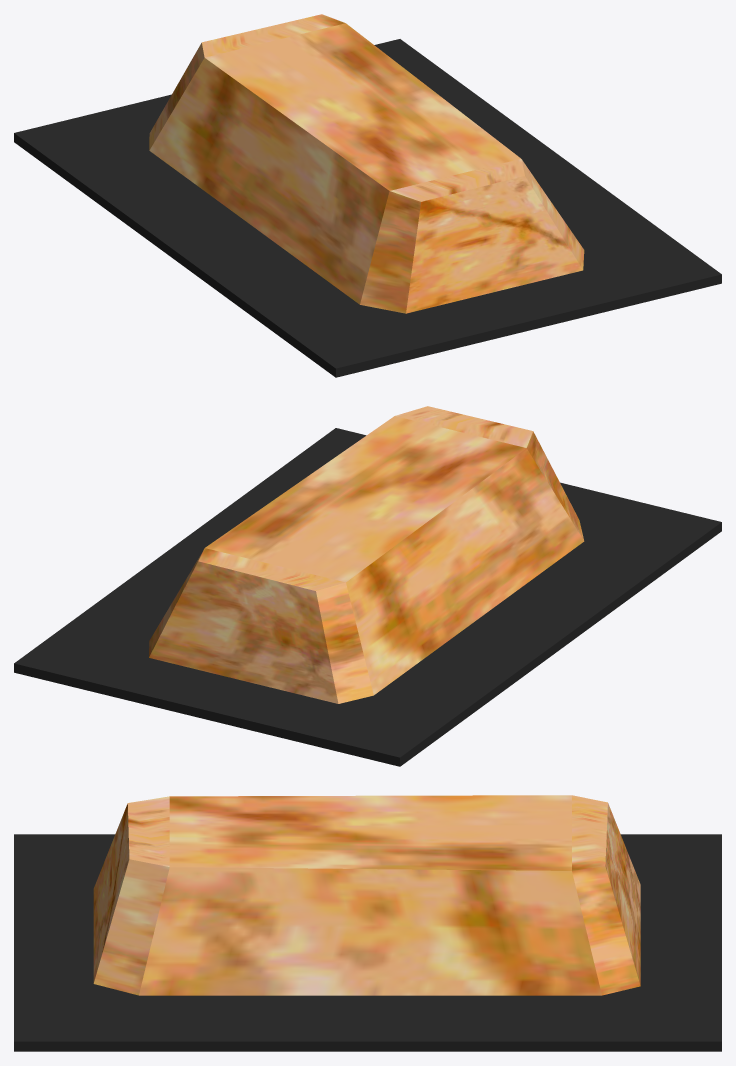
The model's file is pan.fbx.
3 views of the same model, one above another, from view 1: azimuth 30°, elevation 25°; view 2: azimuth 150°, elevation 25°; view 3: azimuth 270°, elevation 25° (orthographic). The views are drawn at different scales.
Parts seen in each view (by area): view 1: pan; view 2: pan; view 3: pan.
Boxes of the visible parts, box(x1,y1,x2,y2) form: pan: box(14, 14, 721, 377); pan: box(14, 406, 721, 766); pan: box(14, 795, 721, 1051).
Bounding box in the file's own units: 41.26 × 10.68 × 59.58.
Materials: 2 (1 with a texture image).
